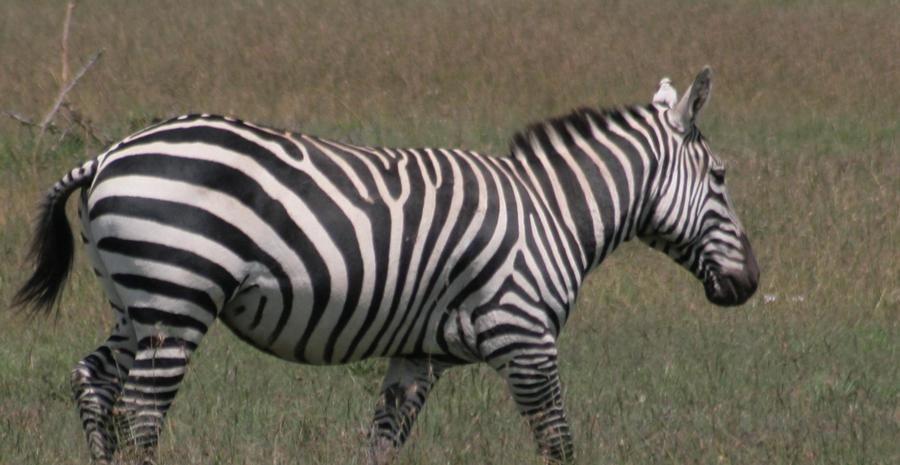zebra_plains: (95, 100, 604, 357)
